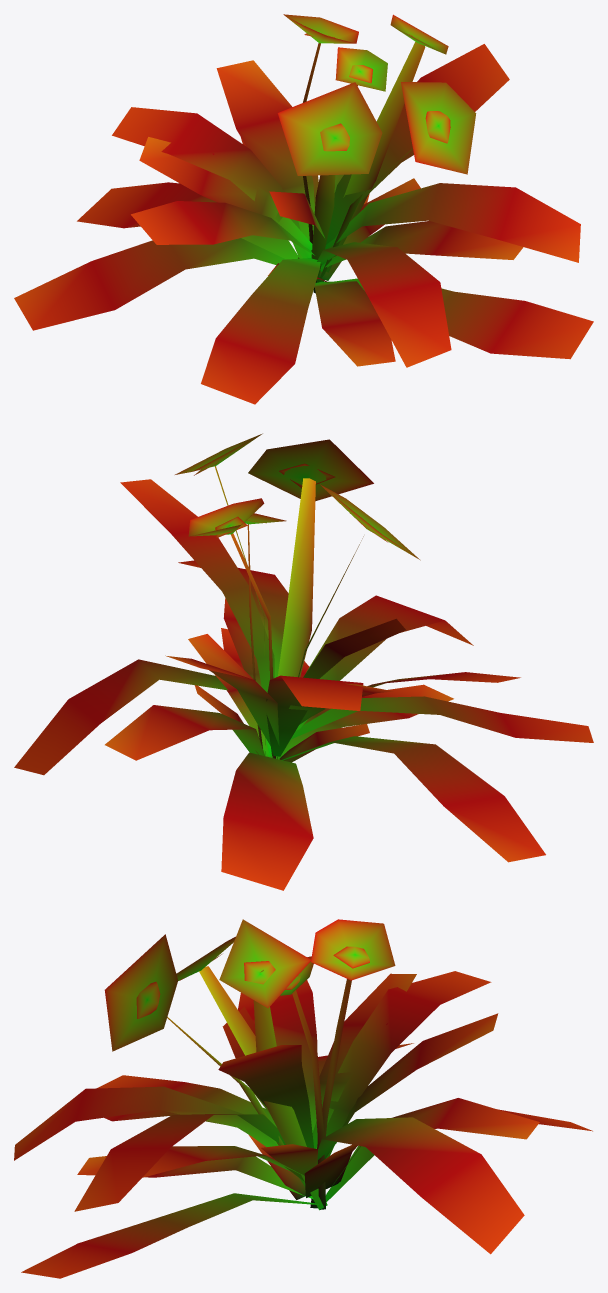
Rendered from Cape Weed_LOD2_Var2_tjmhfcyia.fbx.
The picture shows the model from 3 angles, top to bottom: view 1: azimuth 30°, elevation 25°; view 2: azimuth 150°, elevation 25°; view 3: azimuth 270°, elevation 25°; orthographic projection. The views are drawn at different scales.
Parts seen in each view (by area): view 1: _a21e_Var2_LOD2; view 2: _a21e_Var2_LOD2; view 3: _a21e_Var2_LOD2.
Part boxes in pixels (x1,y1,x2,y2): _a21e_Var2_LOD2: (14,14,593,404); _a21e_Var2_LOD2: (14,433,593,890); _a21e_Var2_LOD2: (14,919,592,1278).
Size of the model in its own units: 43.24 by 26.46 by 44.55.
